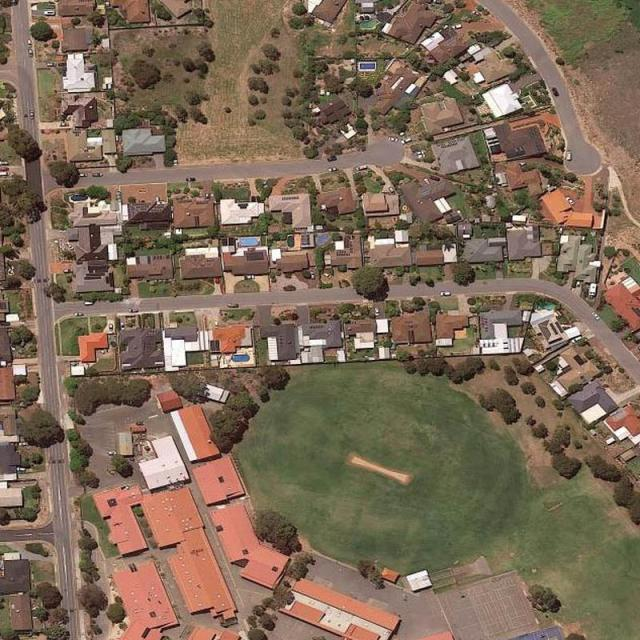vehicle: (589, 283, 597, 298), (226, 302, 240, 310), (570, 335, 583, 343), (355, 162, 367, 170), (326, 166, 341, 171), (439, 290, 451, 296), (84, 299, 94, 306), (553, 86, 559, 97), (566, 150, 572, 161), (592, 312, 600, 320), (107, 450, 117, 456), (374, 306, 380, 316), (388, 136, 398, 142), (390, 186, 396, 196), (400, 138, 411, 143), (27, 39, 33, 48), (28, 49, 34, 58), (310, 271, 316, 280), (246, 274, 255, 280), (329, 156, 338, 162), (74, 311, 84, 316), (16, 466, 26, 471), (450, 25, 462, 29), (109, 322, 114, 331), (92, 173, 103, 177), (30, 110, 34, 120), (416, 154, 426, 158), (1, 172, 10, 176), (1, 161, 8, 166), (79, 173, 87, 177), (416, 150, 424, 154), (1, 167, 10, 170)
